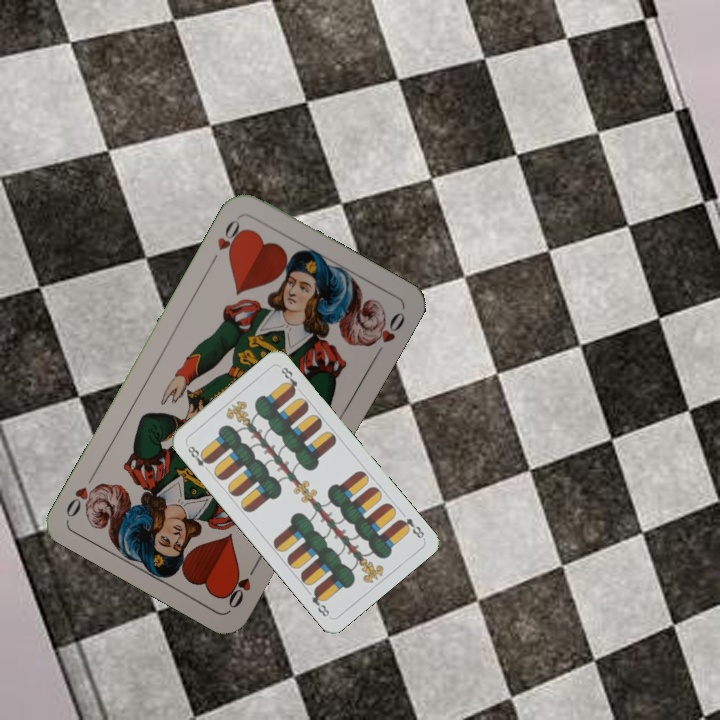E8: (182, 440, 214, 475), (394, 514, 427, 541)
HO: (206, 213, 248, 267), (222, 557, 261, 611)
